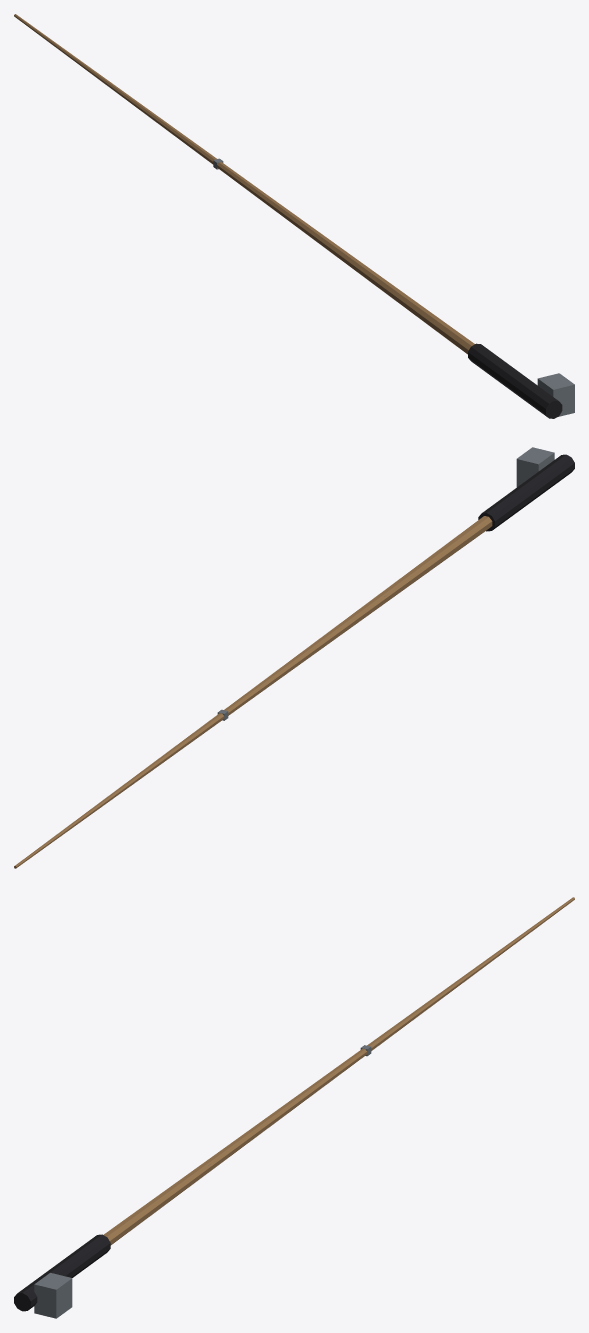
Rendered from fishing_rod.glb.
The picture shows the model from 3 angles, top to bottom: view 1: azimuth 30°, elevation 25°; view 2: azimuth 150°, elevation 25°; view 3: azimuth 330°, elevation 25°; orthographic projection. The views are drawn at different scales.
Parts seen in each view (by area): view 1: fishing_rod; view 2: fishing_rod; view 3: fishing_rod.
Boxes of the visible parts, box(x1,y1,x2,y2) form: fishing_rod: box(14, 14, 574, 418); fishing_rod: box(14, 447, 574, 868); fishing_rod: box(14, 897, 574, 1318).
Bounding box in the file's own units: 0.0652 × 0.05 × 1.73.
1 material, 1 textured.
